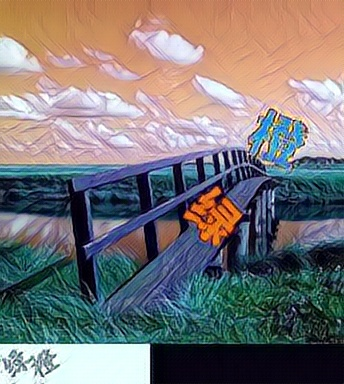B3C8: (245, 106, 307, 170)
C2CC: (183, 185, 245, 249)
